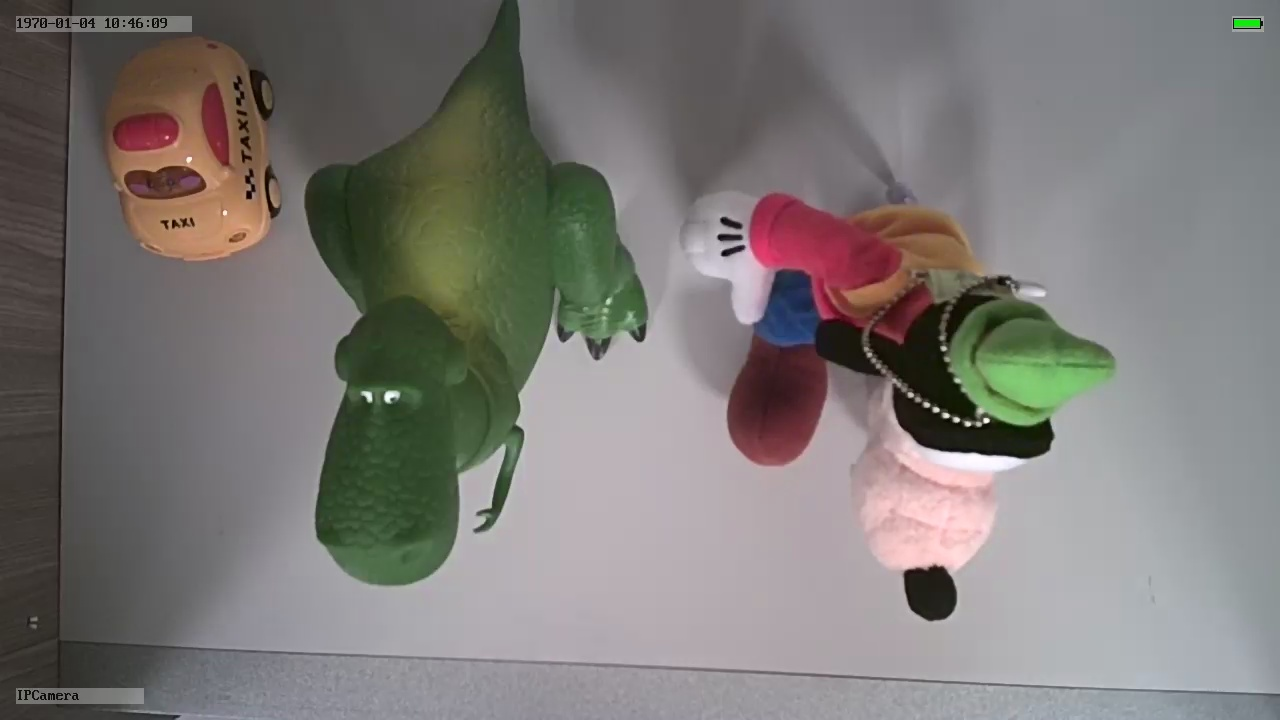car: (103, 36, 280, 262)
goofy: (671, 179, 1119, 631)
rex: (311, 73, 652, 585)
